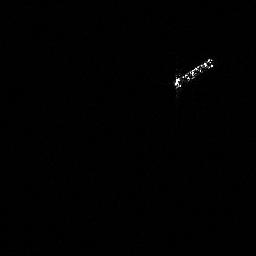ship: (171, 55, 215, 94)
